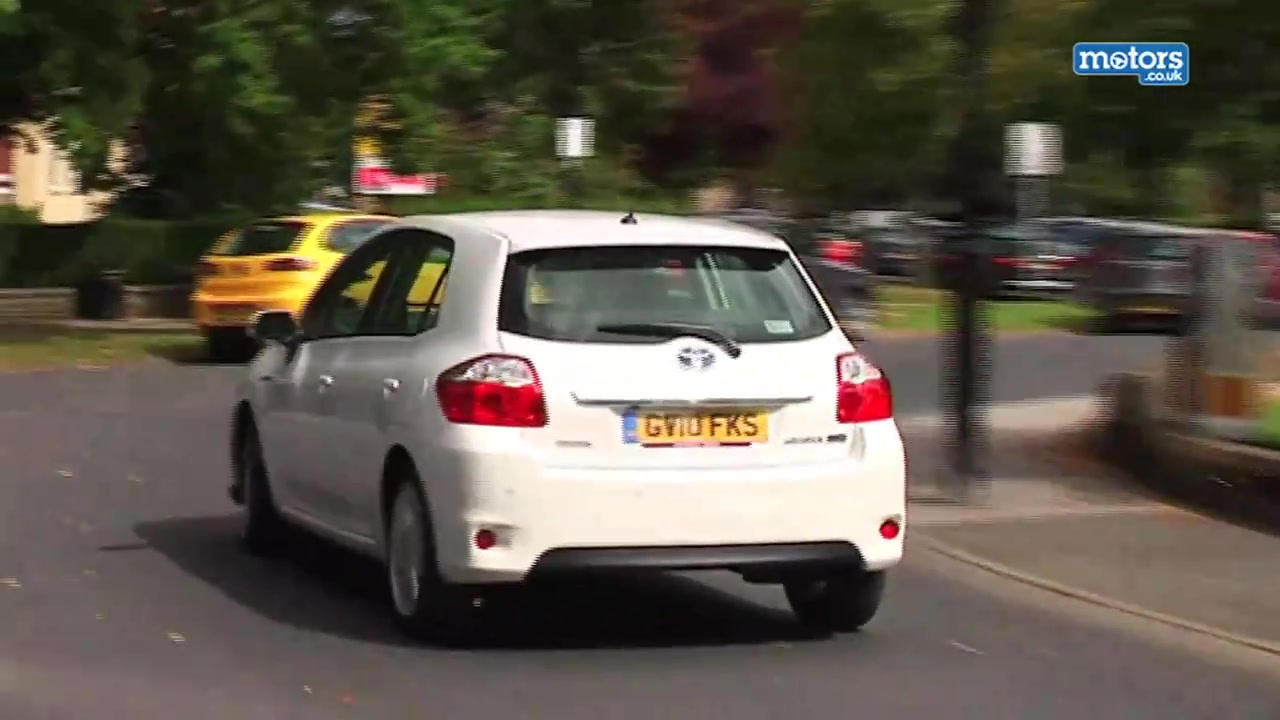car: (226, 206, 911, 636), (195, 210, 554, 356), (604, 219, 883, 312), (932, 221, 1080, 296), (1073, 235, 1202, 321), (1179, 222, 1280, 327), (855, 211, 945, 275)
